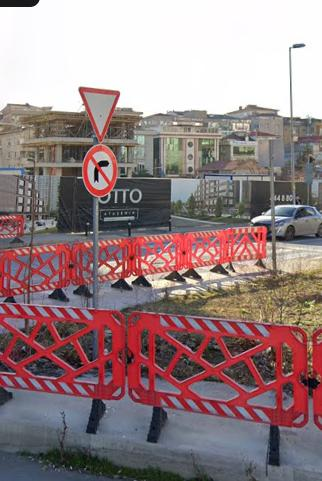rightturnsareforbidden: (82, 144, 118, 197)
